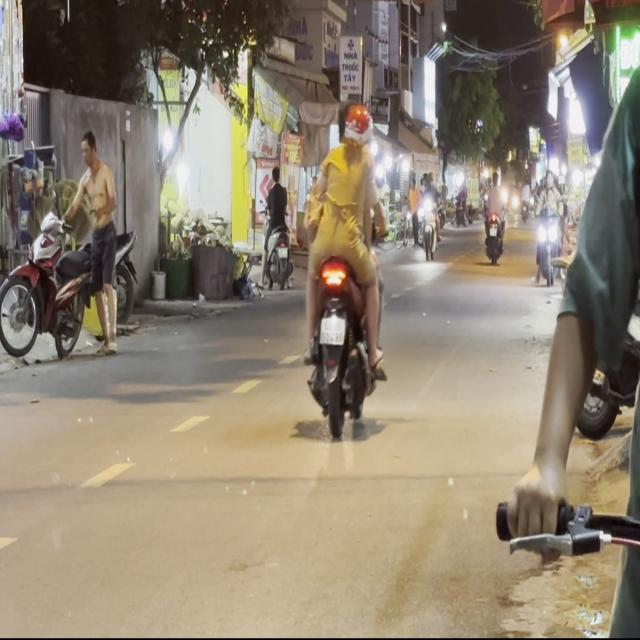helmet: (340, 101, 368, 147)
licenseplate: (298, 98, 388, 434)
nohelmet: (320, 315, 344, 344)
